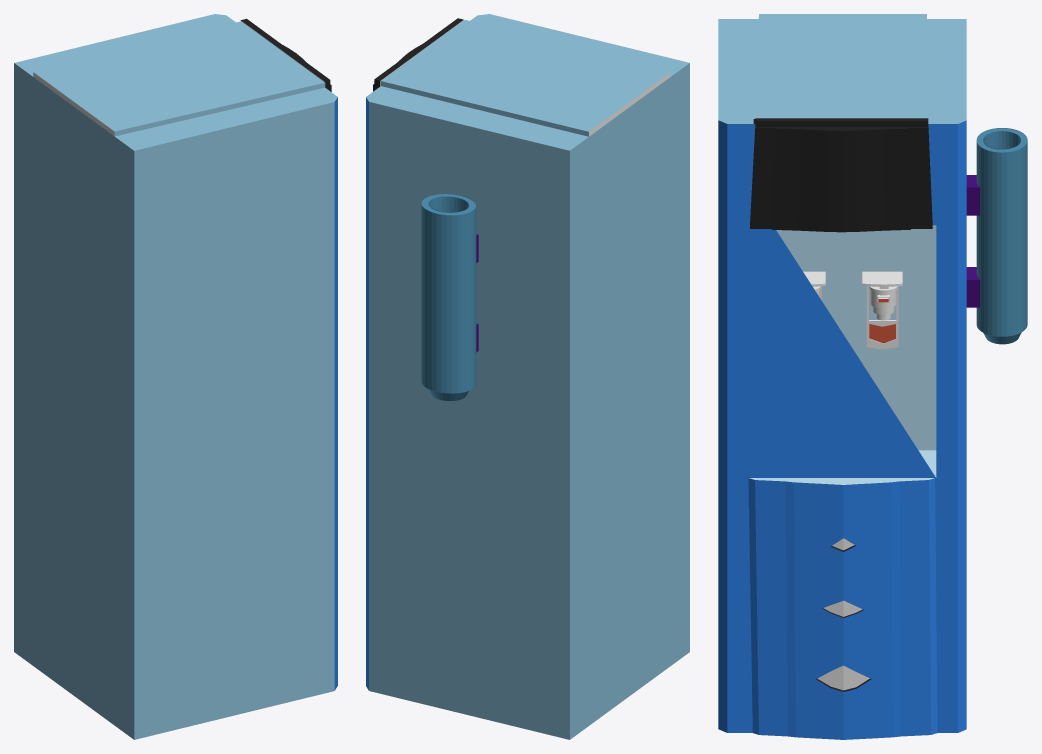
Rendered from DispenserAgua_ManuelW_46961446 (revisar).fbx.
The picture shows the model from 3 angles, left to right: view 1: azimuth 30°, elevation 25°; view 2: azimuth 150°, elevation 25°; view 3: azimuth 270°, elevation 25°; orthographic projection. The views are drawn at different scales.
Parts seen in each view (by area): view 1: Dispenser completo; view 2: Dispenser completo; view 3: Dispenser completo.
Part boxes in pixels (left/top/right/bottom): Dispenser completo: left=14, top=14, right=337, bottom=739; Dispenser completo: left=366, top=14, right=689, bottom=739; Dispenser completo: left=718, top=14, right=1027, bottom=739.
Size of the model in its own units: 36.24 by 92.87 by 42.36.
Materials: 1 (1 with a texture image).
